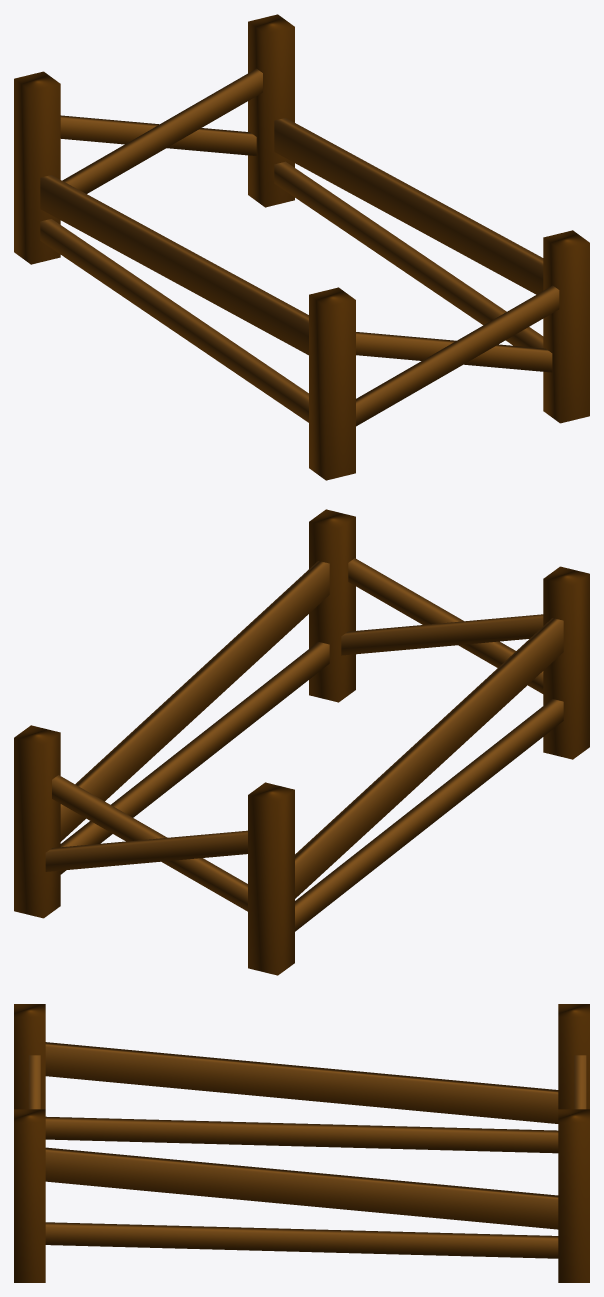
The model's file is rampScaffolding.fbx.
3 renders of one model, top to bottom at view 1: azimuth 30°, elevation 25°; view 2: azimuth 150°, elevation 25°; view 3: azimuth 270°, elevation 25°, orthographic. The views are drawn at different scales.
Visible parts, largest first — view 1: rampScaffolding; view 2: rampScaffolding; view 3: rampScaffolding.
Part boxes in pixels (x1,y1,x2,y2): rampScaffolding: (14,14,589,480); rampScaffolding: (14,509,589,975); rampScaffolding: (14,1004,589,1282).
Bounding box in the file's own units: 239 × 150 × 489.
